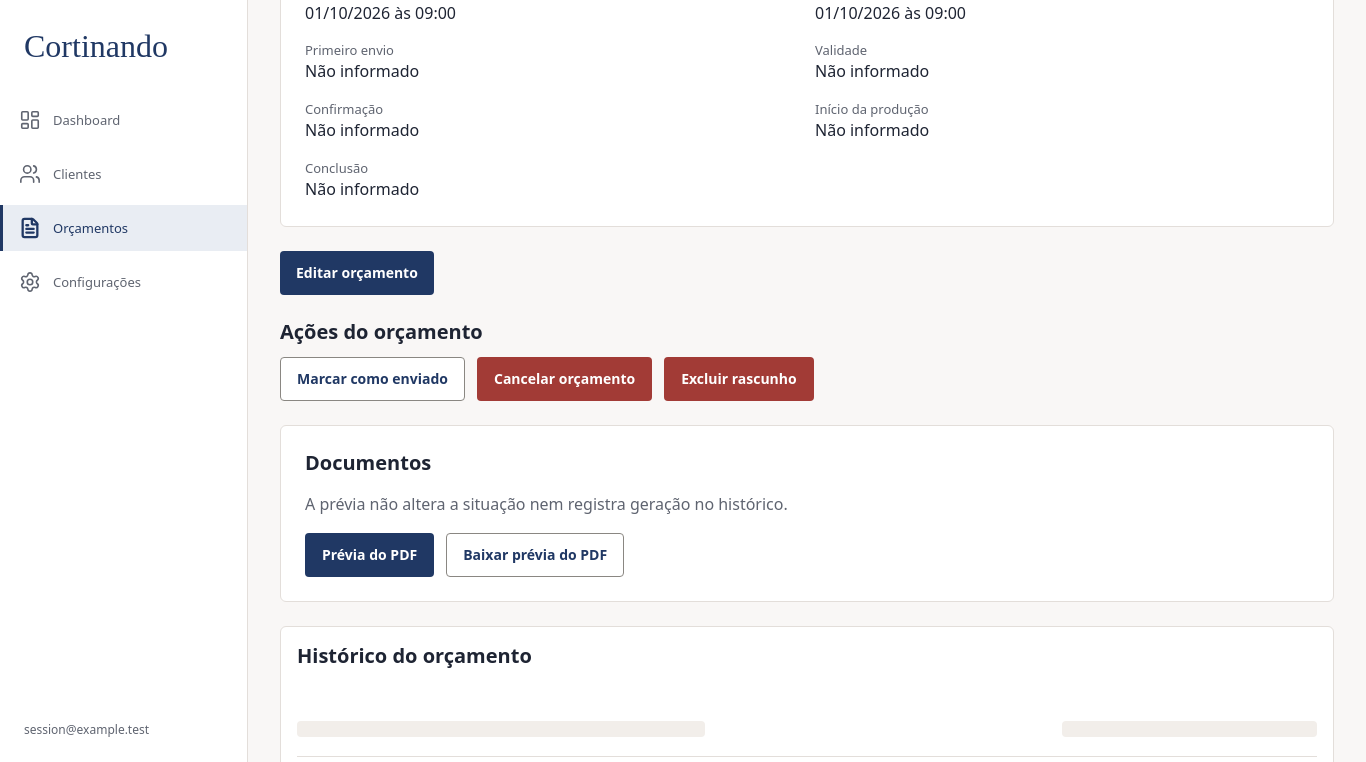
Test: DRAFT Marcar como enviado requires confirmation and replaces detail from its dedicated endpoint
The image size is (1366, 762).
(page scrolled)
Click the button "Marcar como enviado": coordinates (372, 379) [280,357,465,401]
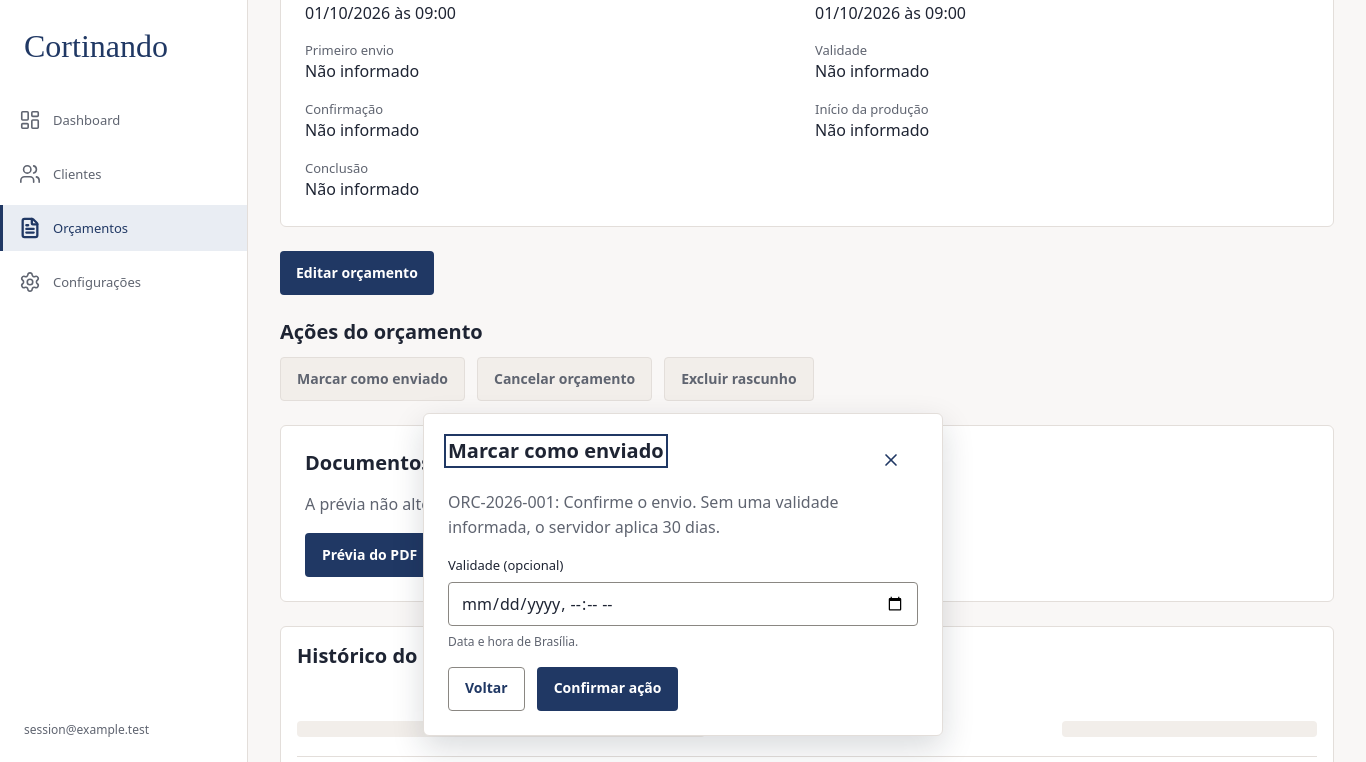
Result: the dialog shows "ORC-2026-001" at [448,491,838,538]
Click the button "Confirmar ação": coordinates (608, 689) [537,667,678,711]
(page scrolled)
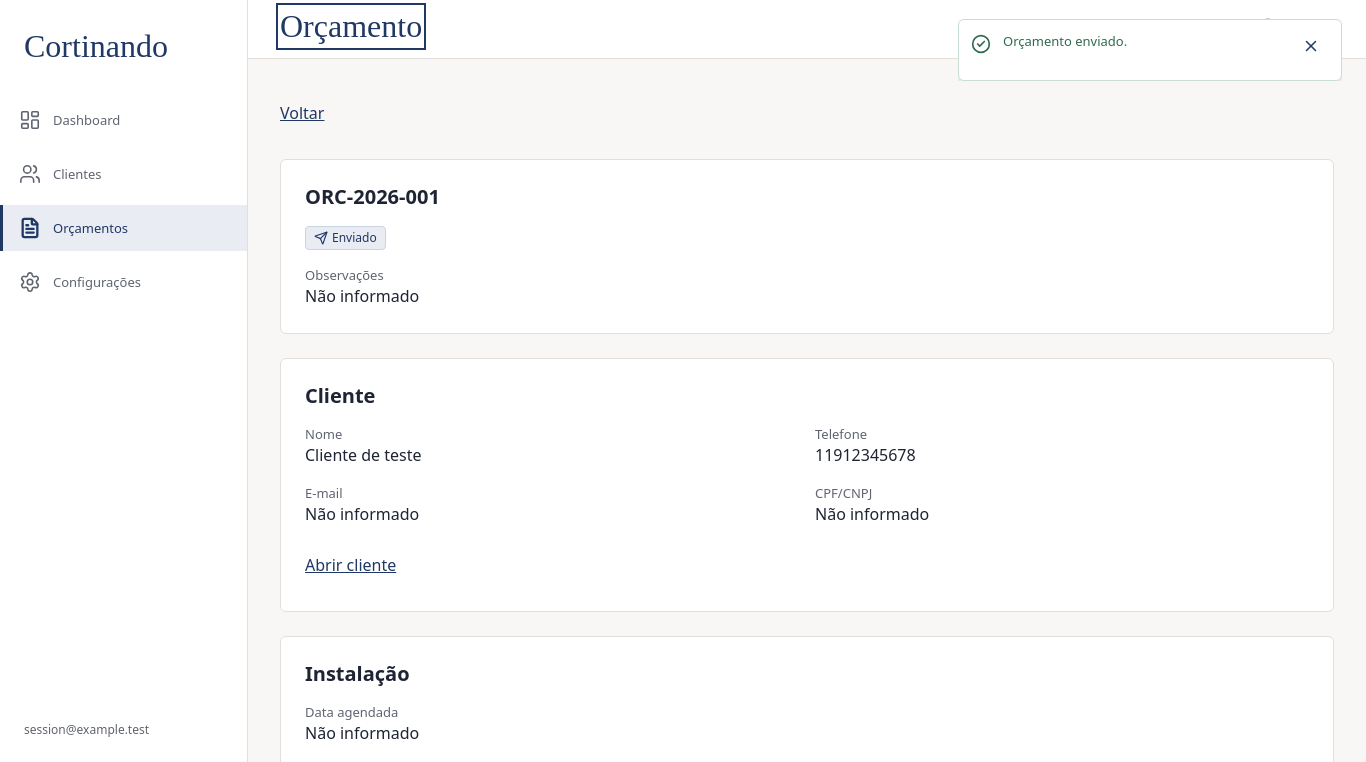
Result: the dialog is gone
Result: the element named "Resumo do orçamento" shows "Enviado" at [332,229,377,246]
